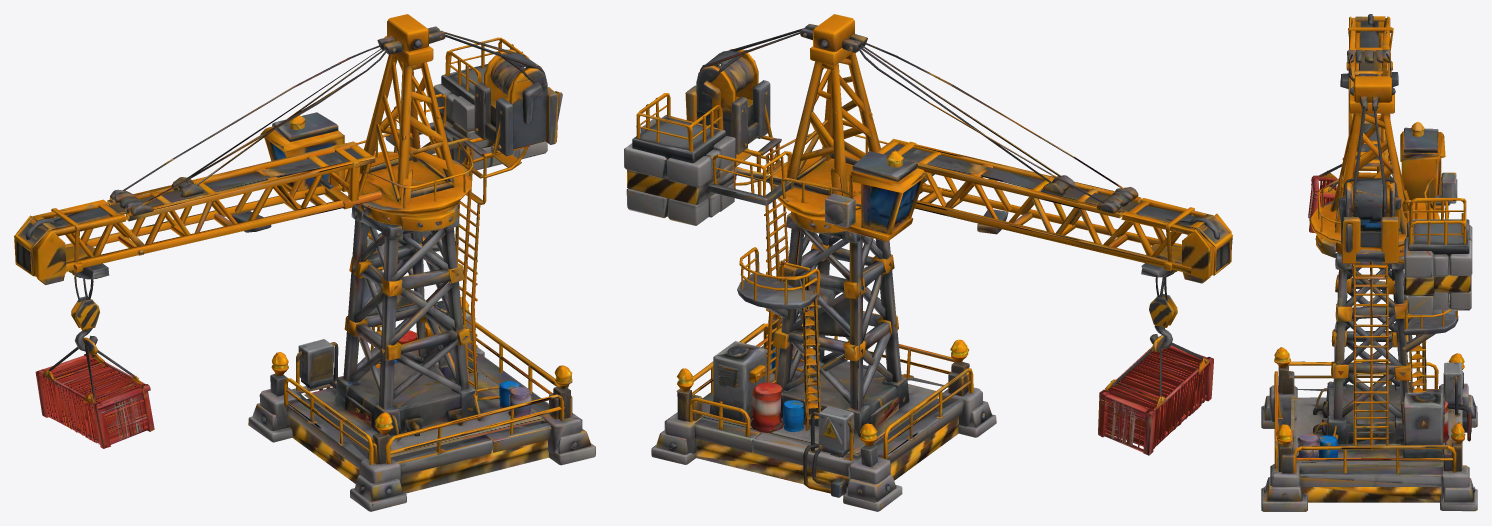
File: tower_crane.glb
The picture shows the model from 3 angles, left to right: view 1: azimuth 30°, elevation 25°; view 2: azimuth 150°, elevation 25°; view 3: azimuth 270°, elevation 25°; orthographic projection. The views are drawn at different scales.
Size of what is drawn, in the model's own units: 1.36 by 1 by 0.5203.
Materials: 1 (1 with a texture image).
